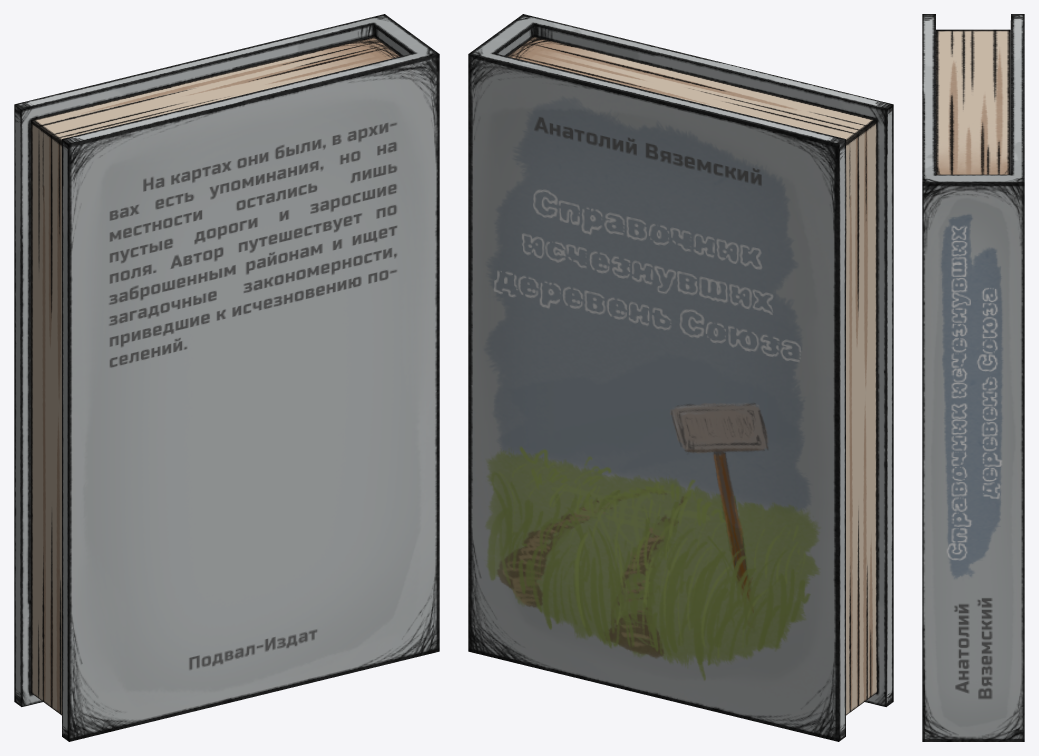
The model's file is book_12.fbx.
3 renders of one model, left to right at view 1: azimuth 30°, elevation 25°; view 2: azimuth 150°, elevation 25°; view 3: azimuth 270°, elevation 25°, orthographic. The views are drawn at different scales.
Visible parts, largest first — view 1: book_1; view 2: book_1; view 3: book_1.
Part boxes in pixels (x1=…): book_1: x1=14, y1=14, x2=439, y2=741; book_1: x1=468, y1=14, x2=893, y2=741; book_1: x1=922, y1=14, x2=1024, y2=741.
Size of the model in its own units: 29.92 by 46.11 by 7.66.
1 material, 1 textured.
